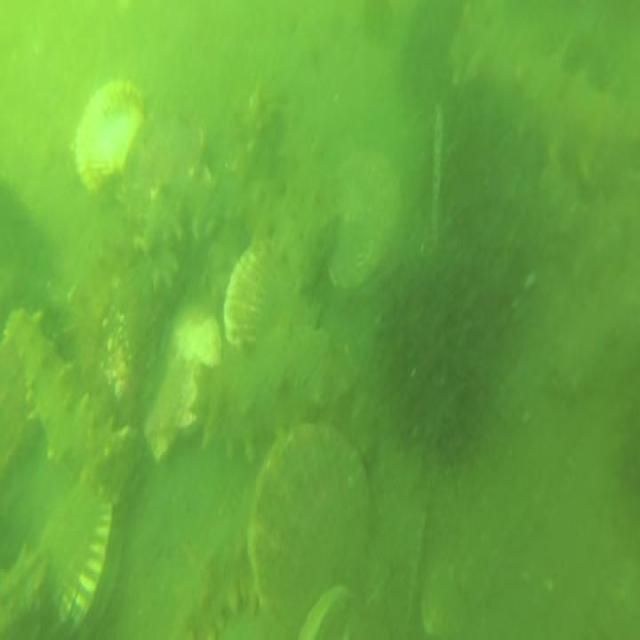echinus: (377, 237, 505, 465)
holothurian: (451, 4, 640, 186), (193, 305, 368, 471), (5, 304, 111, 466), (187, 158, 335, 273), (166, 486, 257, 640), (136, 168, 195, 296)
scallop: (249, 424, 377, 630), (326, 136, 404, 305), (47, 476, 119, 638), (70, 74, 148, 202), (140, 327, 207, 468), (220, 240, 286, 349)
